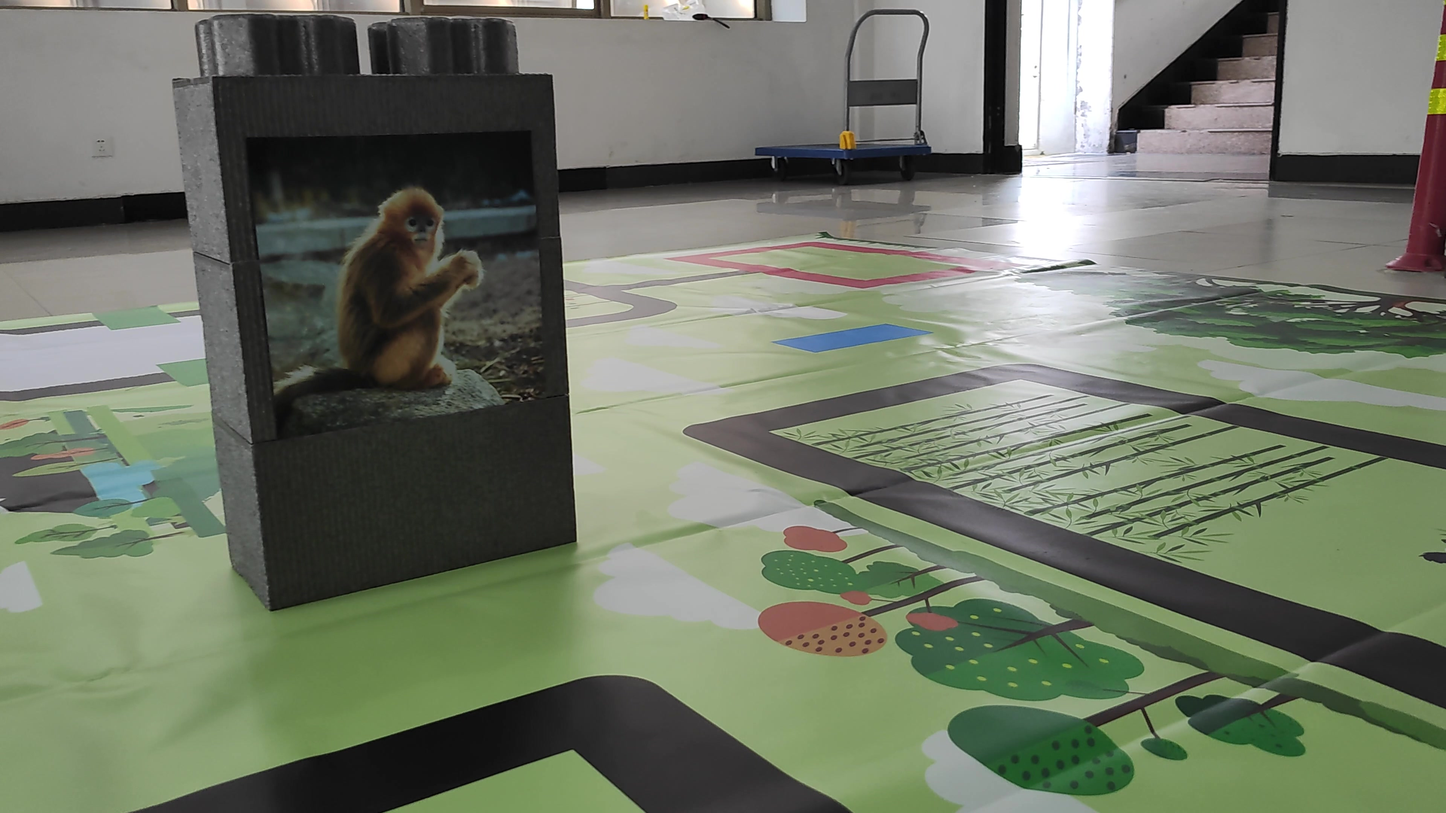monkey: (247, 175, 514, 427)
